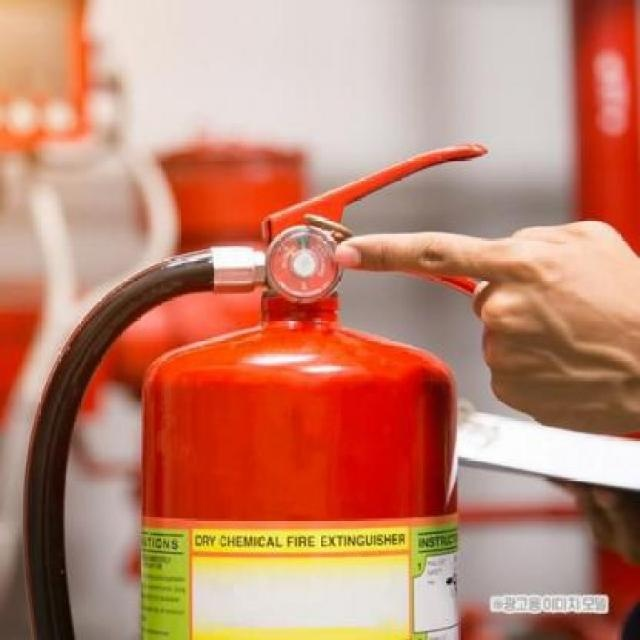fire extinguisher: (23, 141, 489, 640)
